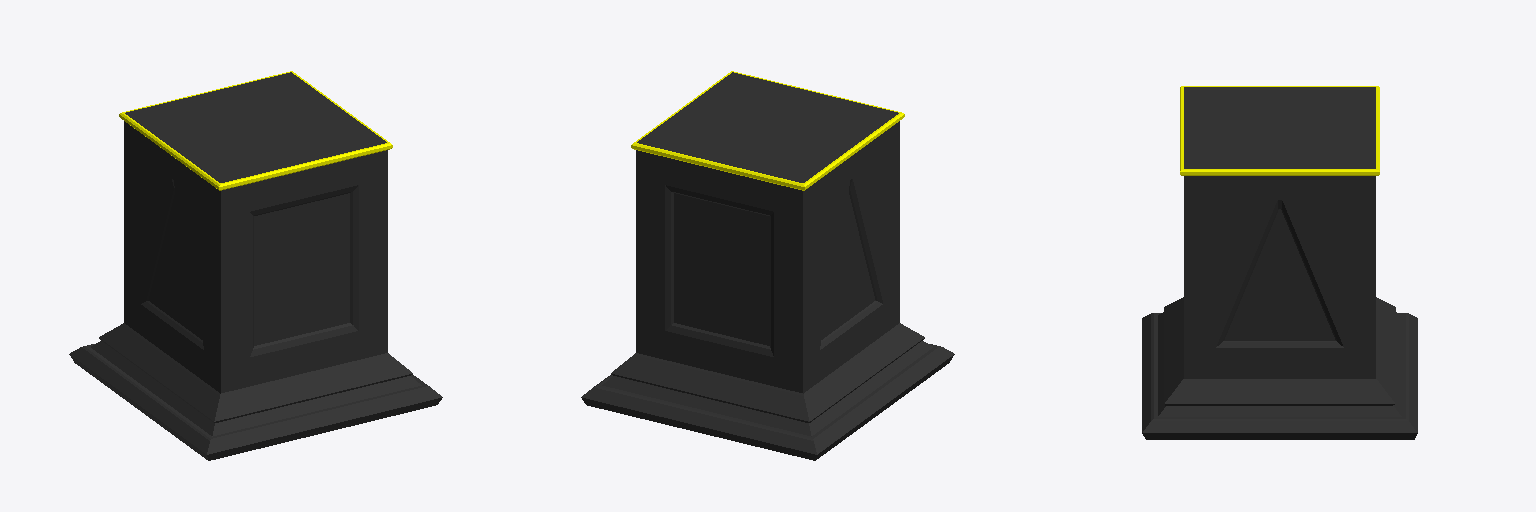
The model's file is pillar-1.obj.
The picture shows the model from 3 angles: view 1: azimuth 30°, elevation 25°; view 2: azimuth 150°, elevation 25°; view 3: azimuth 270°, elevation 25°; orthographic projection.
Parts seen in each view (by area): view 1: pCube1; view 2: pCube1; view 3: pCube1.
Part boxes in pixels (x1,y1,x2,y2): pCube1: (69,71,442,460); pCube1: (581,71,954,460); pCube1: (1142,86,1417,439).
Bounding box in the file's own units: 1.41 × 1.47 × 1.43.